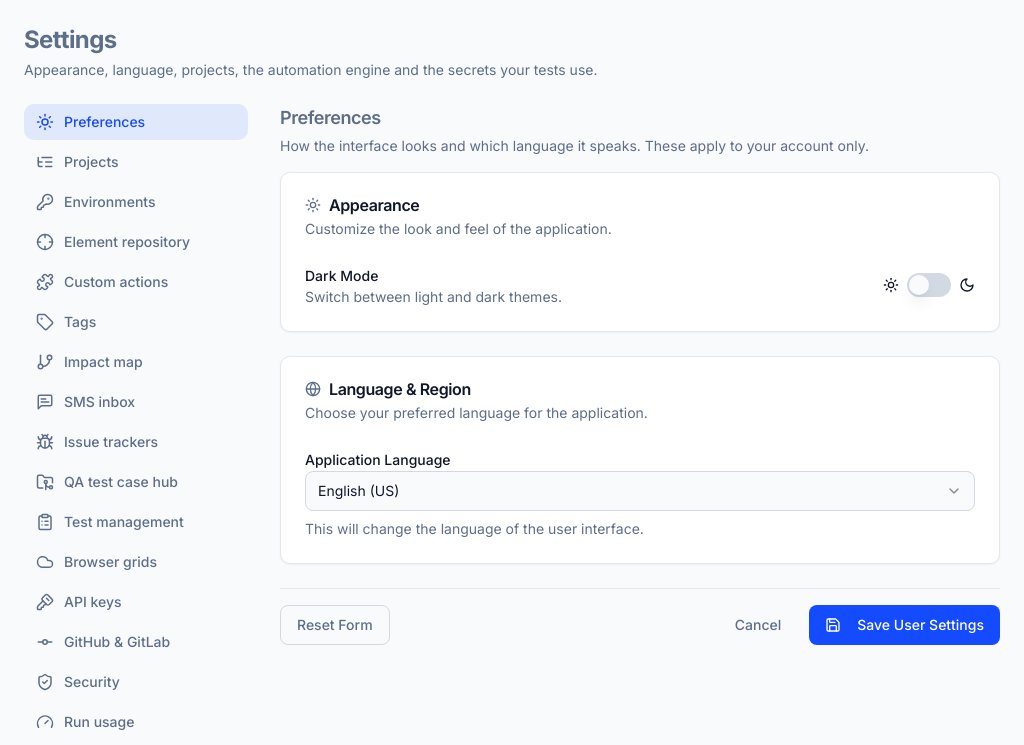
Test: SettingsPage - Project Deletion › opens the confirmation dialog naming the project
Step 1. Click the button "Projects" → click(136, 162), box top-left (24, 144), bottom-right (248, 180)
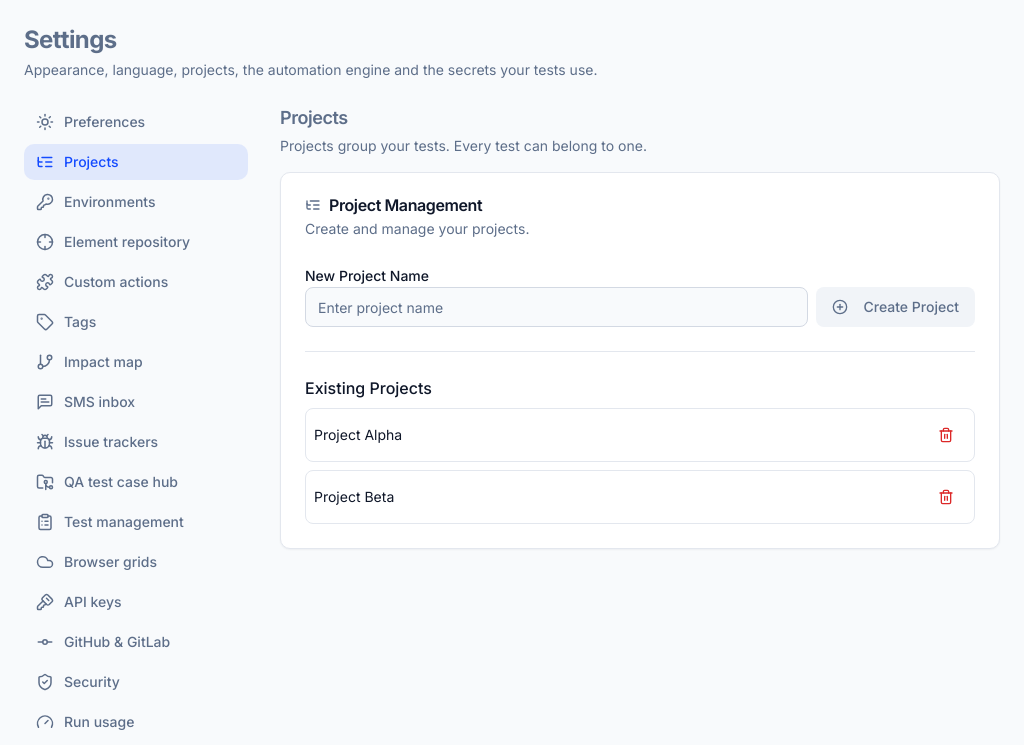
Step 2. Click the button named "Delete project Project Alpha" → click(946, 435), box top-left (926, 417), bottom-right (966, 453)
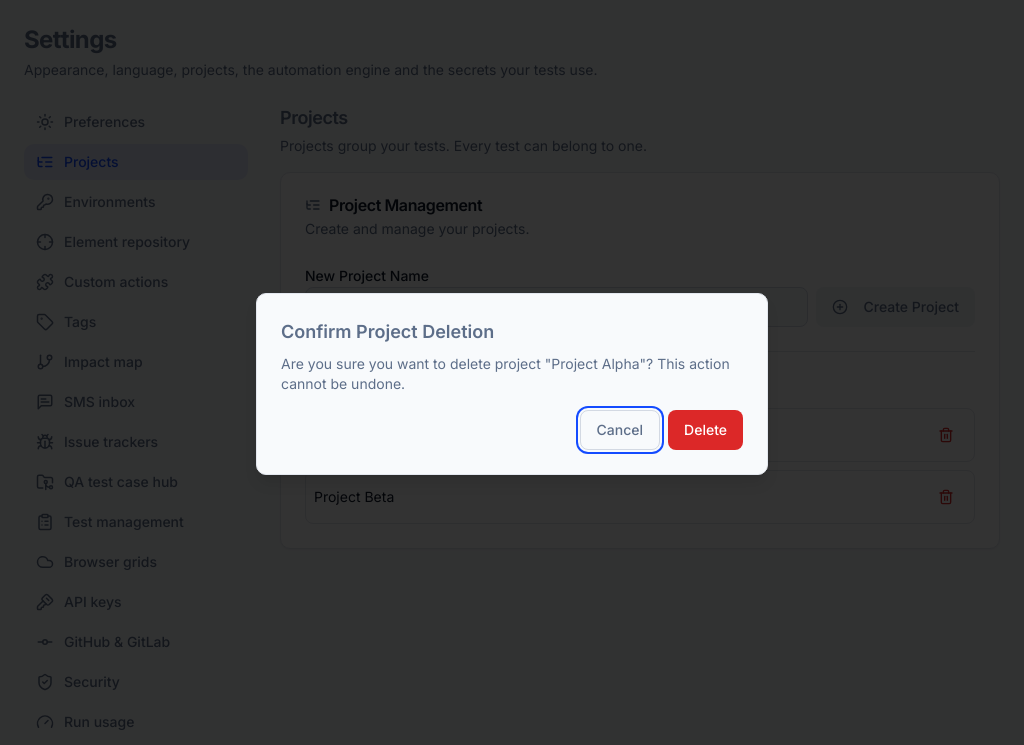
expect the heading "Confirm Project Deletion" is shown: met, box top-left (281, 321), bottom-right (494, 342)
expect the text "Are you sure you want to delete project \"Project Alpha\"" is shown: met, box top-left (281, 355), bottom-right (730, 392)
